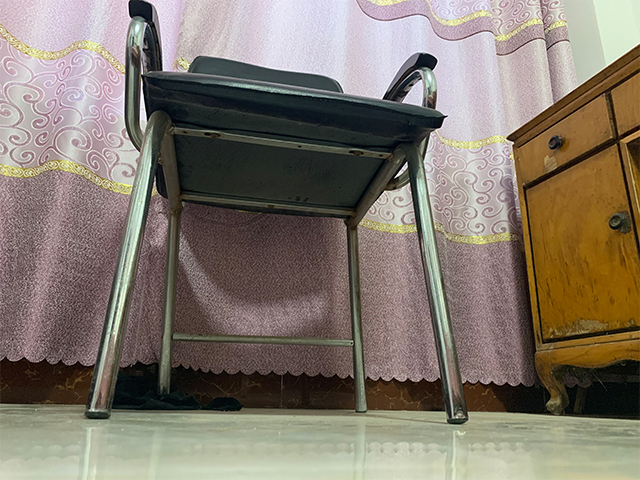cabinet: (505, 42, 640, 418)
curtain: (1, 1, 593, 390)
stool: (82, 1, 469, 425)
